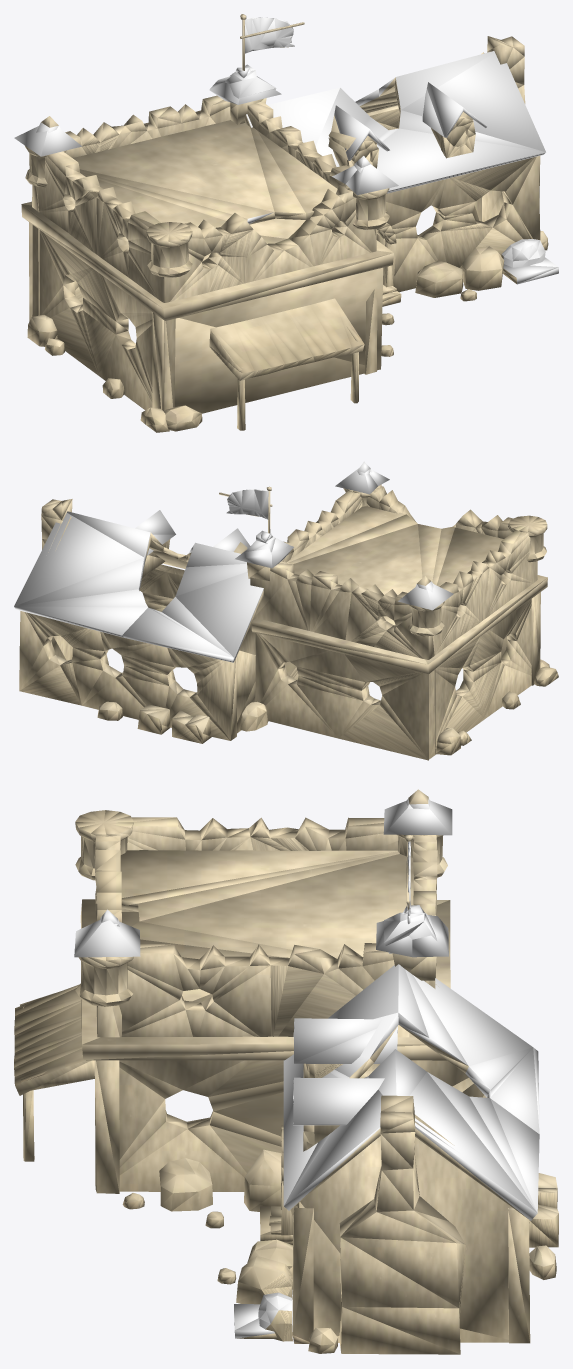
3 views of the same model, one above another, from view 1: azimuth 30°, elevation 25°; view 2: azimuth 150°, elevation 25°; view 3: azimuth 270°, elevation 25° (orthographic). The views are drawn at different scales.
Parts seen in each view (by area): view 1: castle_d2.2; view 2: castle_d2.2; view 3: castle_d2.2.
Part boxes in pixels (x1,y1,x2,y2): castle_d2.2: [14, 14, 558, 432]; castle_d2.2: [14, 461, 558, 760]; castle_d2.2: [14, 789, 558, 1354].
Size of the model in its own units: 2.9 by 1.56 by 2.18.
2 materials, 1 textured.
